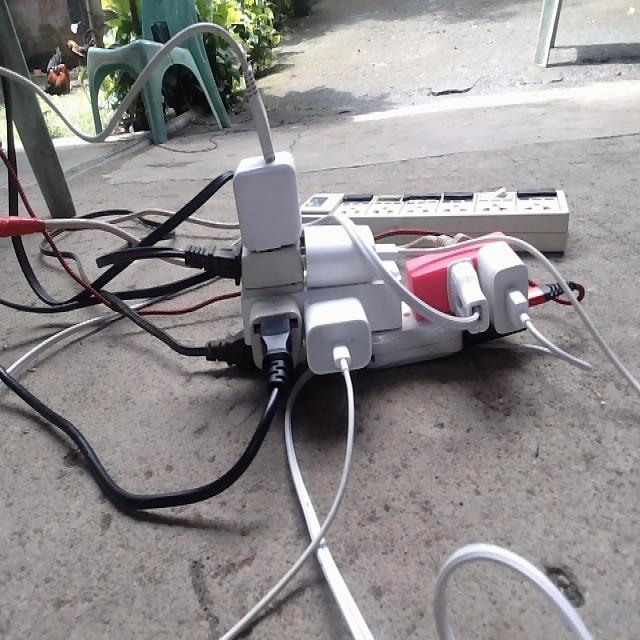-: (181, 73, 581, 390)
